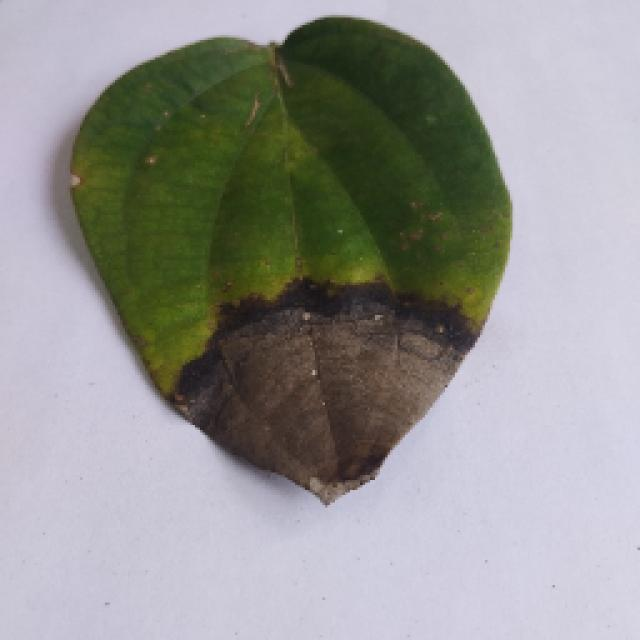footrot: (65, 15, 513, 505)
